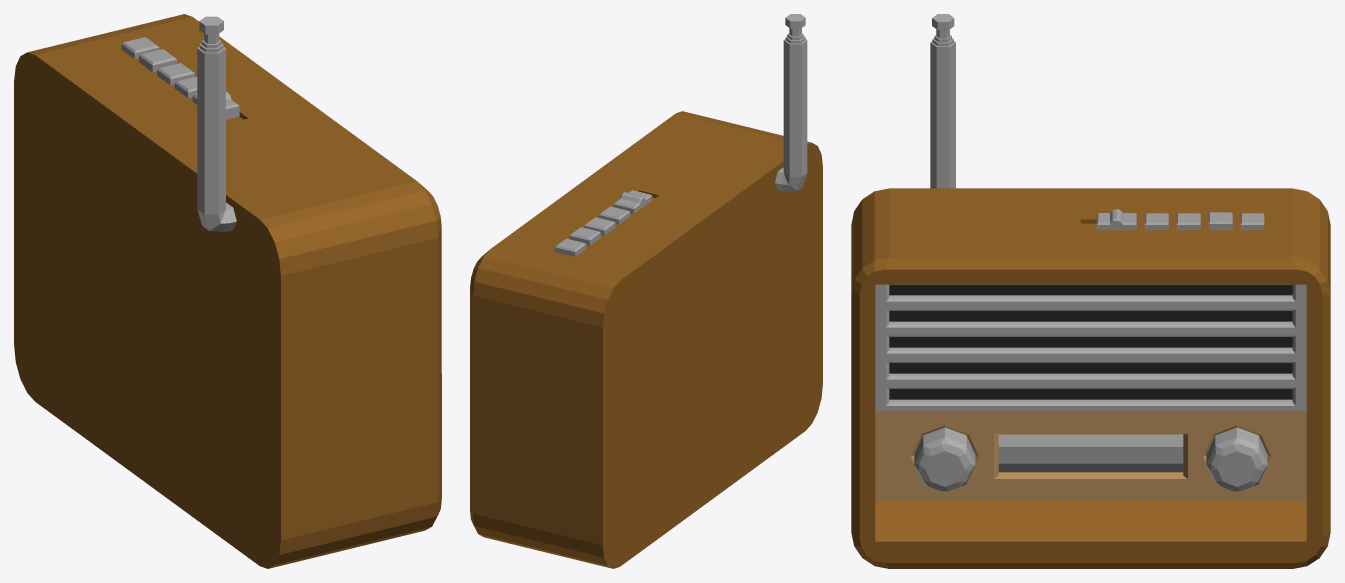
The model's file is radio.fbx.
3 views of the same model, side by side, from view 1: azimuth 30°, elevation 25°; view 2: azimuth 150°, elevation 25°; view 3: azimuth 270°, elevation 25° (orthographic). The views are drawn at different scales.
Visible parts, largest first — view 1: radio; view 2: radio; view 3: radio.
Boxes of the visible parts, x1=… form: radio: x1=14, y1=14, x2=441, y2=568; radio: x1=470, y1=14, x2=822, y2=568; radio: x1=851, y1=14, x2=1330, y2=568.
Bounding box in the file's own units: 19.49 × 50.54 × 46.34.
